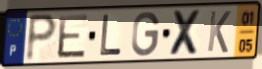E: (56, 13, 90, 60)
G: (130, 10, 162, 59)
K: (206, 9, 233, 55)
L: (98, 13, 123, 58)
P: (24, 12, 60, 63)
X: (168, 9, 203, 58)
